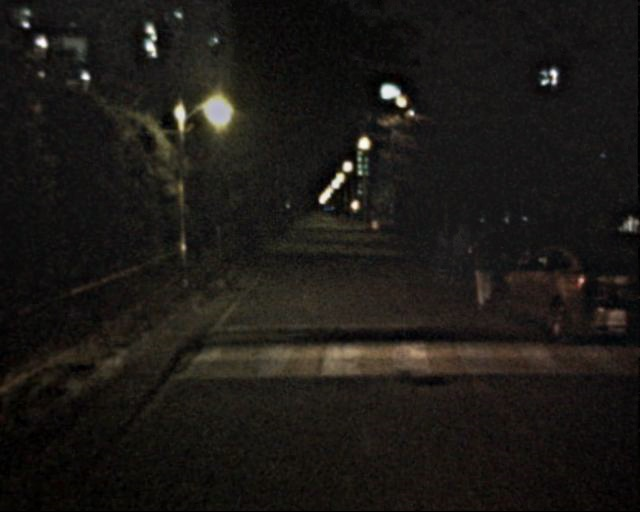person: (464, 224, 500, 312), (447, 222, 477, 291), (426, 225, 457, 290)
